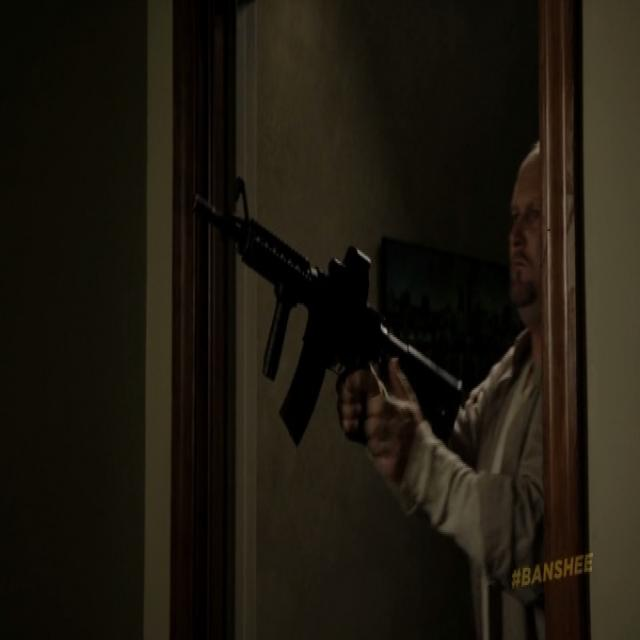rifle: (194, 179, 468, 452)
